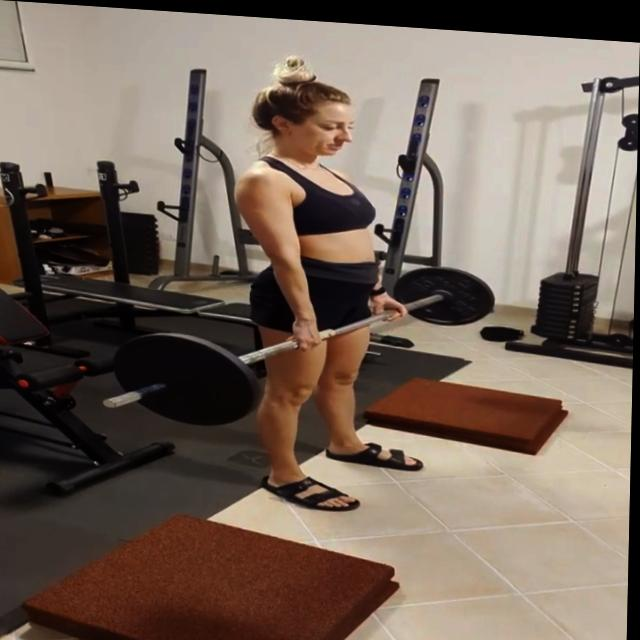barbell: (97, 323, 267, 430)
